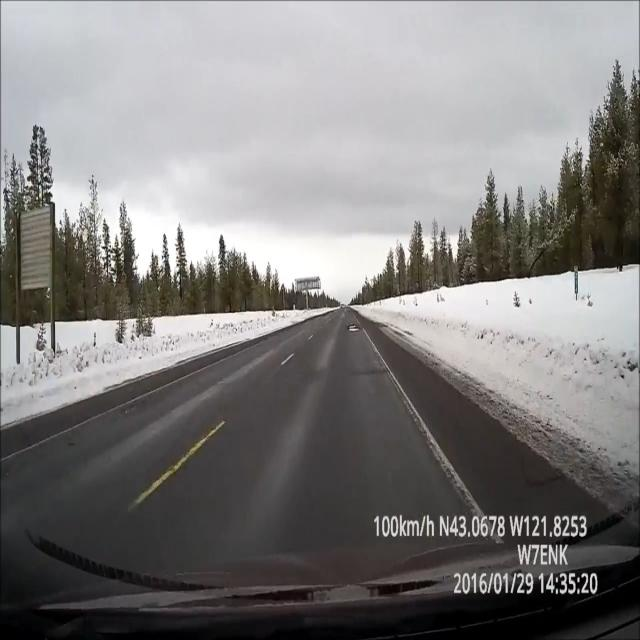Pothole: (344, 313, 366, 338)
